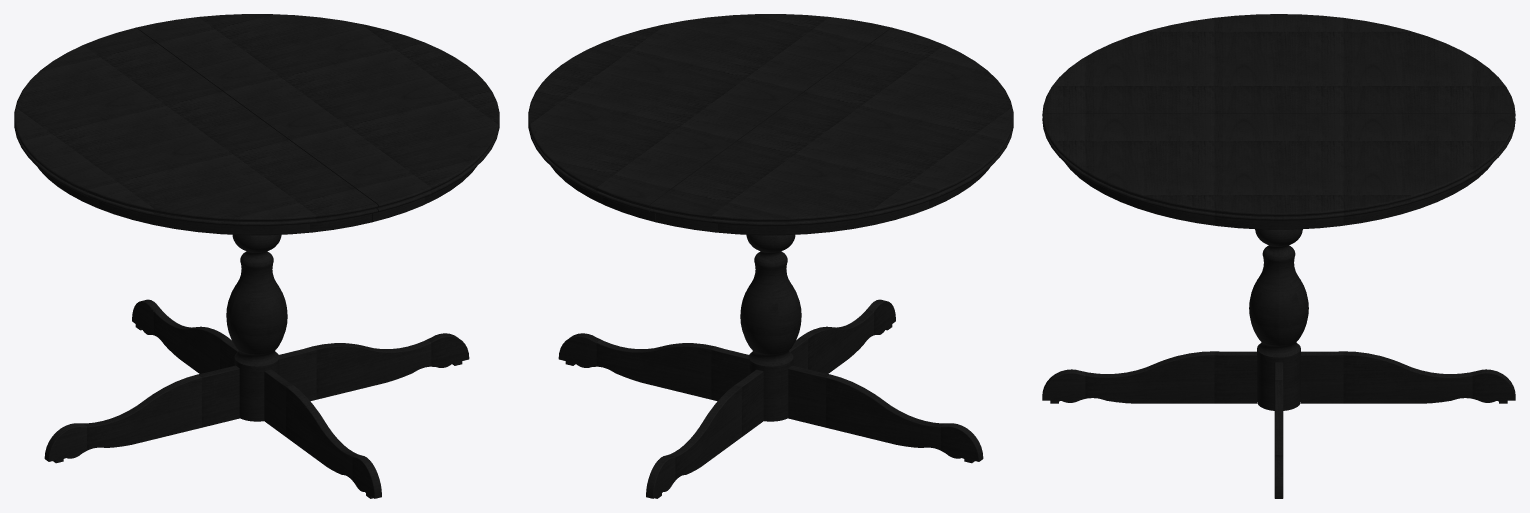
The picture shows the model from 3 angles, left to right: view 1: azimuth 30°, elevation 25°; view 2: azimuth 150°, elevation 25°; view 3: azimuth 270°, elevation 25°; orthographic projection. The views are drawn at different scales.
Visible parts, largest first — view 1: IKE160075; view 2: IKE160075; view 3: IKE160075.
Boxes of the visible parts, box(x1,y1,x2,y2) form: IKE160075: box(14, 14, 499, 498); IKE160075: box(528, 14, 1013, 498); IKE160075: box(1042, 14, 1515, 498).
Size of the model in its own units: 1.1 by 0.74 by 1.1.
2 materials, 1 textured.
